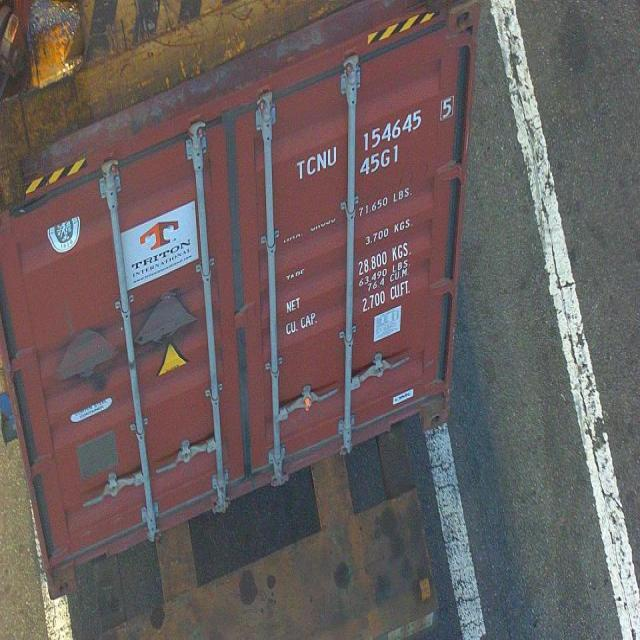ISO: (359, 145, 401, 180)
container_number: (296, 92, 452, 182)
